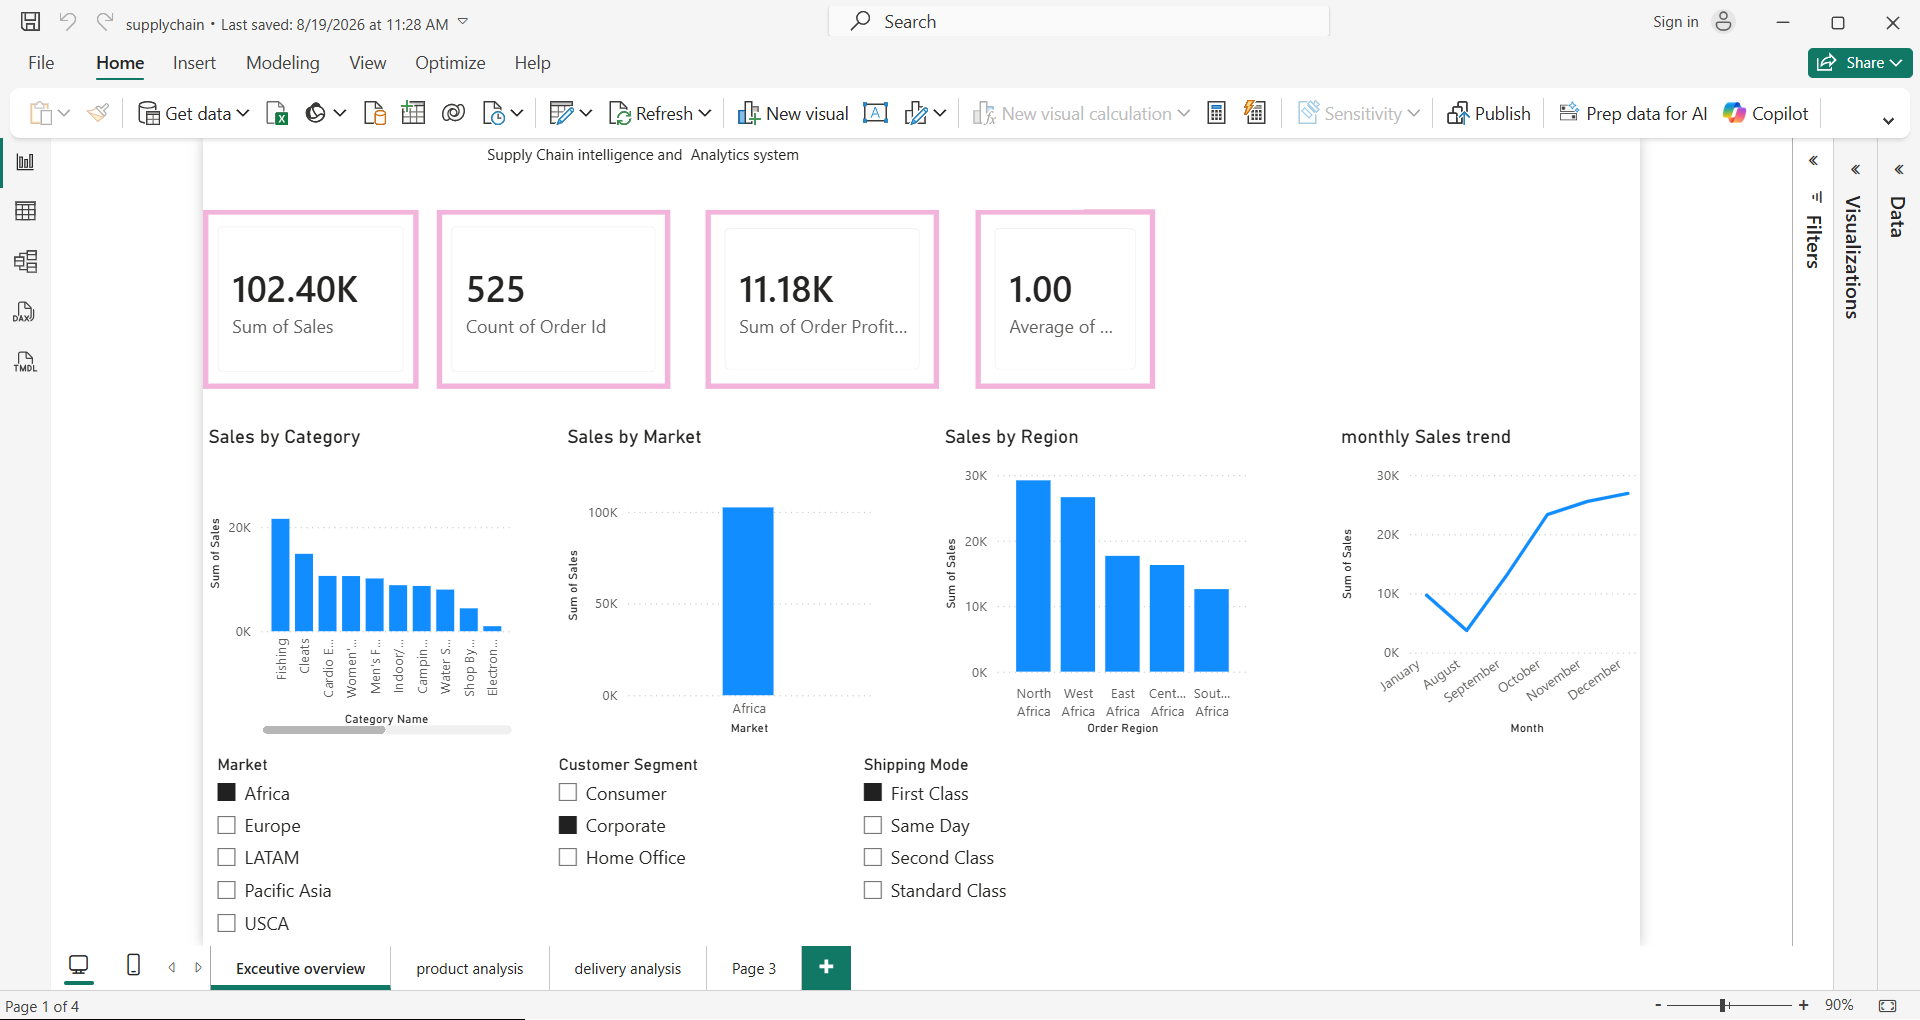

The dashboard page shown, as its layout file describes it:
{"tool":"powerbi","page":{"name":"Exceutive overview","canvas":[1280,720],"ordinal":0},"visuals":[{"type":"cardVisual","fields":{"Data":["Sum(DataCoSupplyChainDataset_Final.Sales)"]},"box":[0,64,192,160],"z":0},{"type":"cardVisual","fields":{"Data":["CountNonNull(DataCoSupplyChainDataset_Final.Order Id)"]},"box":[208,64,208,160],"z":1000},{"type":"cardVisual","fields":{"Data":["Sum(DataCoSupplyChainDataset_Final.Order Profit Per Order)"]},"box":[448,64,208,160],"z":2000},{"type":"cardVisual","fields":{"Data":["Avg(DataCoSupplyChainDataset_Final.Delivery_Delay)"]},"box":[688,64,160,160],"z":3000},{"type":"clusteredColumnChart","title":"Sales by Category ","fields":{"Category":["DataCoSupplyChainDataset_Final.Category Name"],"Y":["Sum(DataCoSupplyChainDataset_Final.Sales)"]},"box":[0,256,280,280],"z":4000},{"type":"clusteredColumnChart","title":"Sales by Market","fields":{"Category":["DataCoSupplyChainDataset_Final.Market"],"Y":["Sum(DataCoSupplyChainDataset_Final.Sales)"]},"box":[320,256,280,280],"z":5000},{"type":"clusteredColumnChart","title":" Sales by  Region","fields":{"Y":["Sum(DataCoSupplyChainDataset_Final.Sales)"],"Category":["DataCoSupplyChainDataset_Final.Order Region"]},"box":[656,256,280,280],"z":6000},{"type":"textbox","box":[0,0,784,64],"z":7000},{"type":"lineChart","title":"monthly Sales trend","fields":{"Y":["Sum(DataCoSupplyChainDataset_Final.Sales)"],"Category":["DataCoSupplyChainDataset_Final.order date (DateOrders).Variation.Date Hierarchy.Month"]},"box":[1008,256,280,280],"z":8000},{"type":"slicer","fields":{"Values":["DataCoSupplyChainDataset_Final.Market"]},"box":[0,544,288,176],"z":8001},{"type":"slicer","fields":{"Values":["DataCoSupplyChainDataset_Final.Customer Segment"]},"box":[304,544,272,176],"z":8003},{"type":"slicer","fields":{"Values":["DataCoSupplyChainDataset_Final.Shipping Mode"]},"box":[576,544,224,176],"z":8004}]}

Visuals, with their boxes on the page's 1280x720 design canvas (x1, y1, x2, y2). These are canvas units, not pixel positions in the 1920x1020 screenshot, which may show the page scaled, cropped or inside an application window:
cardVisual - Sum(DataCoSupplyChainDataset_Final.Sales): pyautogui.locateOnScreen(0, 64, 192, 224)
cardVisual - CountNonNull(DataCoSupplyChainDataset_Final.Order Id): pyautogui.locateOnScreen(208, 64, 416, 224)
cardVisual - Sum(DataCoSupplyChainDataset_Final.Order Profit Per Order): pyautogui.locateOnScreen(448, 64, 656, 224)
cardVisual - Avg(DataCoSupplyChainDataset_Final.Delivery_Delay): pyautogui.locateOnScreen(688, 64, 848, 224)
"Sales by Category " clusteredColumnChart: pyautogui.locateOnScreen(0, 256, 280, 536)
"Sales by Market" clusteredColumnChart: pyautogui.locateOnScreen(320, 256, 600, 536)
" Sales by  Region" clusteredColumnChart: pyautogui.locateOnScreen(656, 256, 936, 536)
textbox: pyautogui.locateOnScreen(0, 0, 784, 64)
"monthly Sales trend" lineChart: pyautogui.locateOnScreen(1008, 256, 1288, 536)
slicer - DataCoSupplyChainDataset_Final.Market: pyautogui.locateOnScreen(0, 544, 288, 720)
slicer - DataCoSupplyChainDataset_Final.Customer Segment: pyautogui.locateOnScreen(304, 544, 576, 720)
slicer - DataCoSupplyChainDataset_Final.Shipping Mode: pyautogui.locateOnScreen(576, 544, 800, 720)
